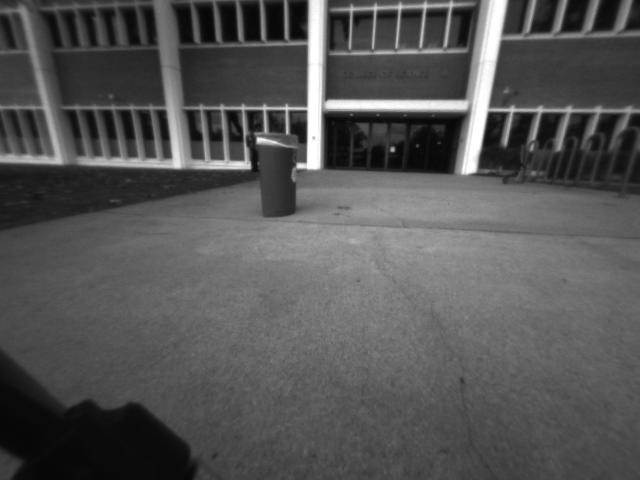trashcan_open: (251, 126, 302, 222)
